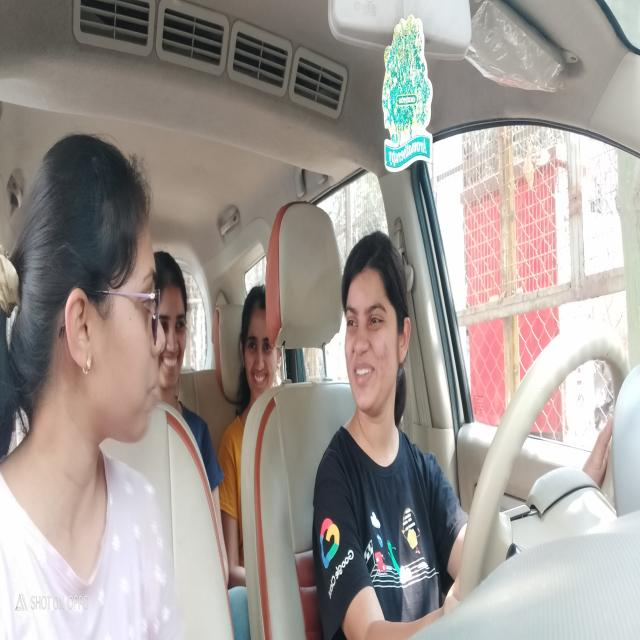LeftRight: (339, 227, 413, 438)
person: (30, 133, 168, 436), (158, 244, 190, 408), (240, 284, 283, 397)
talking: (352, 356, 378, 392), (146, 370, 166, 410)
